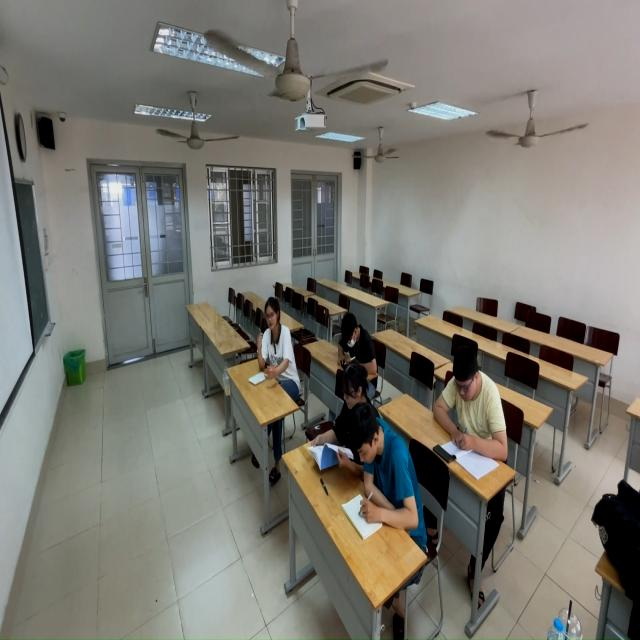raise_hand: (246, 293, 303, 392)
read: (346, 396, 428, 557), (430, 340, 509, 474), (314, 355, 379, 484), (335, 305, 378, 379)
